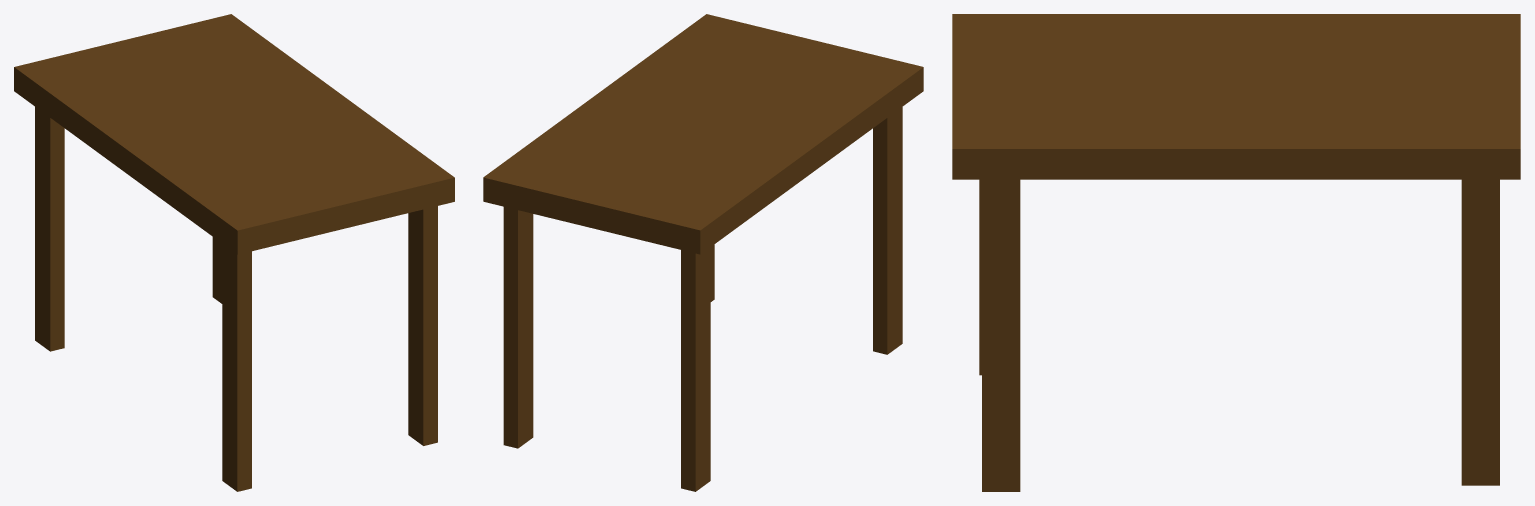
File: tabla.glb
3 views of the same model, side by side, from view 1: azimuth 30°, elevation 25°; view 2: azimuth 150°, elevation 25°; view 3: azimuth 270°, elevation 25° (orthographic). The views are drawn at different scales.
Parts seen in each view (by area): view 1: Cube, Cube.003, Cube.001, Cube.004, Cube.002; view 2: Cube, Cube.002, Cube.004, Cube.003; view 3: Cube, Cube.001, Cube.002.
Part boxes in pixels (x1,y1,x2,y2): Cube: (14,14,454,254); Cube.003: (222,244,251,491); Cube.001: (408,206,437,445); Cube.004: (35,107,64,351); Cube.002: (212,237,222,303); Cube: (483,14,923,254); Cube.002: (503,207,533,448); Cube.004: (681,247,710,491); Cube.003: (873,107,902,354); Cube: (952,14,1520,179); Cube.001: (982,179,1020,491); Cube.002: (1461,179,1499,485).
Size of the model in its own units: 4.59 by 5.49 by 8.17.
